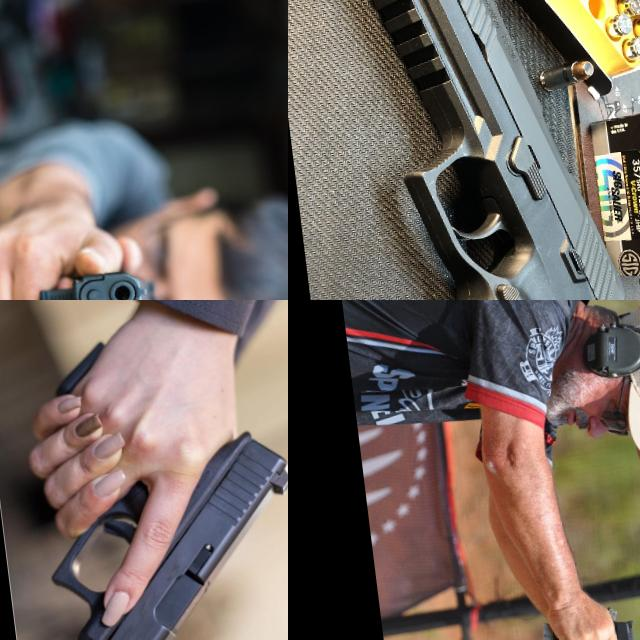handgun: (288, 0, 640, 300), (2, 424, 288, 640), (31, 264, 159, 300), (586, 599, 640, 640)
